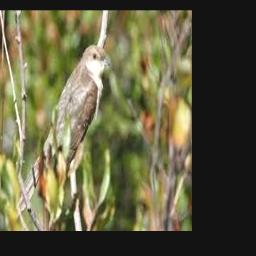Cuckoo: (13, 45, 112, 220)
